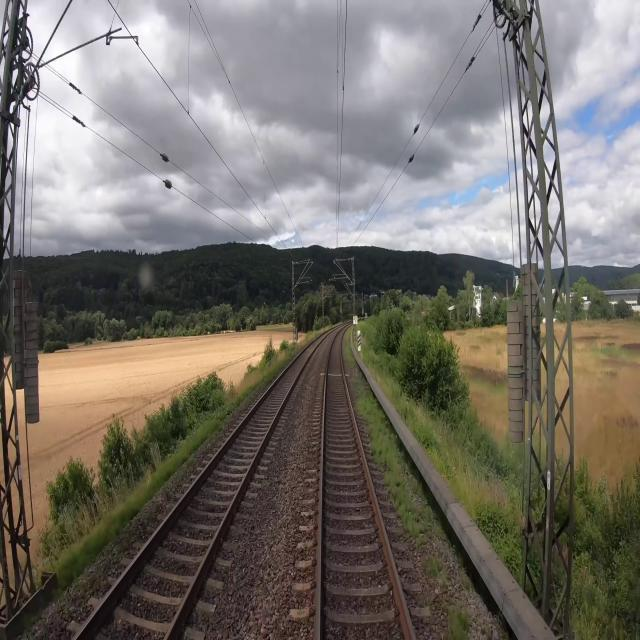Plant: (354, 385, 445, 545), (442, 599, 471, 639), (456, 551, 473, 590), (421, 553, 442, 578), (417, 592, 434, 609), (344, 345, 356, 365)
